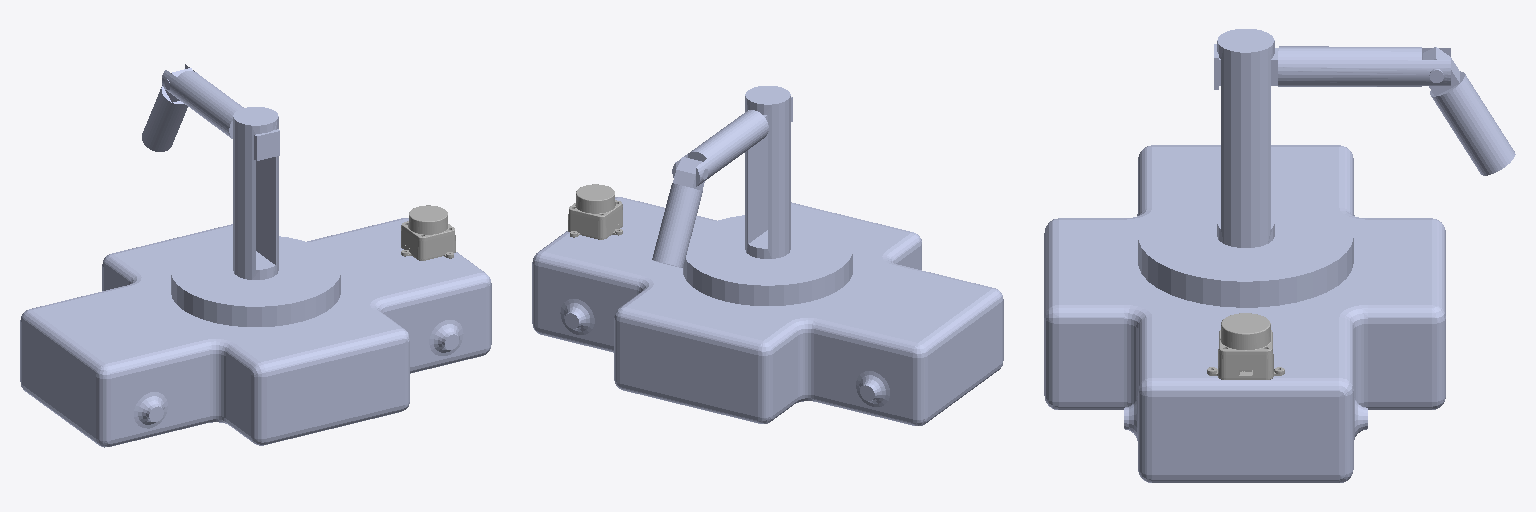
The robot description file, URDF, robot "finalexam_ros":
<?xml version="1.0"?>
<robot
  name="finalexam_ros">
  <link
    name="base_link">
    <inertial>
      <origin
        xyz="4.60613173636493E-05 -5.48293926705412E-06 -0.0455994153912339"
        rpy="0 0 0" />
      <mass
        value="3.07925886782748" />
      <inertia
        ixx="0.0182612787332782"
        ixy="4.38402725811977E-09"
        ixz="7.40473162008238E-07"
        iyy="0.0388954755485699"
        iyz="2.46848881765906E-07"
        izz="0.0521757181959699" />
    </inertial>
    <visual>
      <origin
        xyz="0 0 0"
        rpy="0 0 0" />
      <geometry>
        <mesh
          filename="package://finalexam_ros/meshes/base_link.STL" />
      </geometry>
      <material
        name="">
        <color
          rgba="0.792156862745098 0.819607843137255 0.933333333333333 1" />
      </material>
    </visual>
    <collision>
      <origin
        xyz="0 0 -0.03"
        rpy="0 0 0" />
      <geometry>
        <box size="0.35 0.14 0.10" />
      </geometry>
    </collision>
  </link>

  <link
    name="back_right">
    <inertial>
      <origin
        xyz="-1.67630940679508E-05 0.0187510063255215 -7.16149980251046E-06"
        rpy="0 0 0" />
      <mass
        value="0.144485937463161" />
      <inertia
        ixx="4.00827800129865E-05"
        ixy="4.46642384261894E-11"
        ixz="-2.70611065491029E-10"
        iyy="6.17257618808325E-05"
        iyz="8.90635847424176E-09"
        izz="4.0070713306064E-05" />
    </inertial>
    <visual>
      <origin
        xyz="0 0 0"
        rpy="0 0 0" />
      <geometry>
        <mesh
          filename="package://finalexam_ros/meshes/back_right.STL" />
      </geometry>
      <material
        name="">
        <color
          rgba="0.752941176470588 0.752941176470588 0.752941176470588 1" />
      </material>
    </visual>
    <collision>
      <origin
        xyz="0 0.019 0"
        rpy="1.5708 0 0" />
      <geometry>
        <cylinder radius="0.05" length="0.04" />
      </geometry>
    </collision>
  </link>
  <joint
    name="Backright"
    type="continuous">
    <origin
      xyz="-0.14986476224812 -0.119750309596582 -0.0500082781805382"
      rpy="0 0 0" />
    <parent
      link="base_link" />
    <child
      link="back_right" />
    <axis
      xyz="0 1 0" />
    <limit
      effort="1000"
      velocity="25" />
    <dynamics
      damping="0.1"
      friction="1" />
  </joint>

  <link
    name="back_left">
    <inertial>
      <origin
        xyz="-3.39557239761867E-05 -0.0188726902692292 -8.36398948255157E-05"
        rpy="0 0 0" />
      <mass
        value="0.145187835560938" />
      <inertia
        ixx="4.00896149033657E-05"
        ixy="2.55957160672069E-10"
        ixz="8.70435351802457E-09"
        iyy="6.17369826623331E-05"
        iyz="-3.89988473797599E-11"
        izz="4.0102762059215E-05" />
    </inertial>
    <visual>
      <origin
        xyz="0 0 0"
        rpy="0 0 0" />
      <geometry>
        <mesh
          filename="package://finalexam_ros/meshes/back_left.STL" />
      </geometry>
      <material
        name="">
        <color
          rgba="0.752941176470588 0.752941176470588 0.752941176470588 1" />
      </material>
    </visual>

    <collision>
      <origin
        xyz="0 -0.019 0"
        rpy="1.5708 0 0" />
      <geometry>
        <cylinder radius="0.05" length="0.04" />
      </geometry>
    </collision>
  </link>
  <joint
    name="Backleft"
    type="continuous">
    <origin
      xyz="-0.149911509223914 0.120249690403418 -0.0499105515525619"
      rpy="0 0 0" />
    <parent
      link="base_link" />
    <child
      link="back_left" />
    <axis
      xyz="0 -1 0" />
    <limit
      effort="1000"
      velocity="25" />
    <dynamics
      damping="0.1"
      friction="1" />
  </joint>

  <link
    name="front_left">
    <inertial>
      <origin
        xyz="-6.80328921531421E-05 -0.0167510064700166 8.07998104851437E-06"
        rpy="0 0 0" />
      <mass
        value="0.144485936513102" />
      <inertia
        ixx="4.00815064397821E-05"
        ixy="-3.04651677116548E-09"
        ixz="-3.71818198356295E-09"
        iyy="6.17257625535643E-05"
        iyz="-8.36894560707643E-09"
        izz="4.00719869637442E-05" />
    </inertial>
    <visual>
      <origin
        xyz="0 0 0"
        rpy="0 0 0" />
      <geometry>
        <mesh
          filename="package://finalexam_ros/meshes/front_left.STL" />
      </geometry>
      <material
        name="">
        <color
          rgba="0.752941176470588 0.752941176470588 0.752941176470588 1" />
      </material>
    </visual>

    <collision>
      <origin
        xyz="0 -0.017 0"
        rpy="1.5708 0 0" />
      <geometry>
        <cylinder radius="0.05" length="0.04" />
      </geometry>
    </collision>
  </link>
  <joint
    name="Frontleft"
    type="continuous">
    <origin
      xyz="0.150048677021618 0.118249690403418 -0.0499983612731708"
      rpy="0 0 0" />
    <parent
      link="base_link" />
    <child
      link="front_left" />
    <axis
      xyz="0 -1 0" />
    <limit
      effort="1000"
      velocity="25" />
    <dynamics
      damping="0.1"
      friction="1" />
  </joint>

  <link
    name="front_right">
    <inertial>
      <origin
        xyz="-4.01276467762099E-06 0.0188726903120324 9.0180349112845E-05"
        rpy="0 0 0" />
      <mass
        value="0.145187835558896" />
      <inertia
        ixx="4.00855976097913E-05"
        ixy="-2.54242827598535E-10"
        ixz="-2.60989001776178E-09"
        iyy="6.17369826510031E-05"
        iyz="4.8932975675359E-11"
        izz="4.01067793273605E-05" />
    </inertial>
    <visual>
      <origin
        xyz="0 0 0"
        rpy="0 0 0" />
      <geometry>
        <mesh
          filename="package://finalexam_ros/meshes/front_right.STL" />
      </geometry>
      <material
        name="">
        <color
          rgba="0.752941176470588 0.752941176470588 0.752941176470588 1" />
      </material>
    </visual>

    <collision>
      <origin
        xyz="0 0.019 0"
        rpy="1.5708 0 0" />
      <geometry>
        <cylinder radius="0.05" length="0.04" />
      </geometry>
    </collision>
  </link>
  <joint
    name="Frontright"
    type="continuous">
    <origin
      xyz="0.15005643750699 -0.119750309596582 -0.050096622662408"
      rpy="0 0 0" />
    <parent
      link="base_link" />
    <child
      link="front_right" />
    <axis
      xyz="0 1 0" />
    <limit
      effort="1000"
      velocity="25" />
    <dynamics
      damping="0.1"
      friction="1" />
  </joint>

  <link
    name="fix_arm">
    <inertial>
      <origin
        xyz="5.16407718889056E-05 0.000249690403418157 0.0272580512075361"
        rpy="0 0 0" />
      <mass
        value="0.439295546431636" />
      <inertia
        ixx="0.00124081698488693"
        ixy="4.90491967605696E-08"
        ixz="3.29766832418635E-19"
        iyy="0.00124982311483853"
        iyz="2.3715938386396E-19"
        izz="0.00101616739612817" />
    </inertial>
    <visual>
      <origin
        xyz="0 0 0"
        rpy="0 0 0" />
      <geometry>
        <mesh
          filename="package://finalexam_ros/meshes/fix_arm.STL" />
      </geometry>
      <material
        name="">
        <color
          rgba="0.792156862745098 0.819607843137255 0.933333333333333 1" />
      </material>
    </visual>

    <collision>
      <origin
        xyz="0 0 0.027"
        rpy="0 0 0" />
      <geometry>
        <cylinder radius="0.04" length="0.06" />
      </geometry>
    </collision>
  </link>
  <joint
    name="Fixarm"
    type="fixed">
    <origin
      xyz="0 0 0"
      rpy="0 0 0" />
    <parent
      link="base_link" />
    <child
      link="fix_arm" />
    <axis
      xyz="0 0 0" />
  </joint>

  <link
    name="joint_1">
    <inertial>
      <origin
        xyz="0.000304670881587754 0.0559437297110564 0.129999996094583"
        rpy="0 0 0" />
      <mass
        value="0.0848039939096306" />
      <inertia
        ixx="0.000142384120242274"
        ixy="-7.3199738064874E-07"
        ixz="-5.98501563417493E-13"
        iyy="7.97751875557315E-06"
        iyz="1.85113127209417E-11"
        izz="0.000142569533457675" />
    </inertial>
    <visual>
      <origin
        xyz="0 0 0"
        rpy="0 0 0" />
      <geometry>
        <mesh
          filename="package://finalexam_ros/meshes/joint_1.STL" />
      </geometry>
      <material
        name="">
        <color
          rgba="0.792156862745098 0.819607843137255 0.933333333333333 1" />
      </material>
    </visual>

    <collision>
      <origin
        xyz="0 0 0.13"
        rpy="0 0 0" />
      <geometry>
        <cylinder radius="0.02" length="0.15" />
      </geometry>
    </collision>
  </link>
  <joint
    name="Joint1"
    type="prismatic">
    <origin
      xyz="5.16407718889056E-05 0.000249690403418268 0.02"
      rpy="0 0 0" />
    <parent
      link="fix_arm" />
    <child
      link="joint_1" />
    <axis
      xyz="0 0 1" />

    <limit
      lower="-0.11"
      upper="0"
      effort="50"
      velocity="0.5" />
    <dynamics
      damping="0.1"
      friction="10" />
  </joint>

  <link
    name="joint2">
    <inertial>
      <origin
        xyz="0.0387153387889752 0.0154767804769137 -3.78737557859832E-05"
        rpy="0 0 0" />
      <mass
        value="0.0535021473177969" />
      <inertia
        ixx="9.01147443106383E-06"
        ixy="-9.88211726822178E-06"
        ixz="1.54054117281876E-20"
        iyy="2.97812418465219E-05"
        iyz="6.41892155341149E-21"
        izz="3.35652509632372E-05" />
    </inertial>
    <visual>
      <origin
        xyz="0 0 0"
        rpy="0 0 0" />
      <geometry>
        <mesh
          filename="package://finalexam_ros/meshes/joint2.STL" />
      </geometry>
      <material
        name="">
        <color
          rgba="0.792156862745098 0.819607843137255 0.933333333333333 1" />
      </material>
    </visual>

    <collision>
      <origin
        xyz="0.039 0.015 0"
        rpy="0 1.5708 0" />
      <geometry>
        <cylinder radius="0.015" length="0.09" />
      </geometry>
    </collision>
  </link>
  <joint
    name="Joint2"
    type="revolute">
    <origin
      xyz="0.00072256707584864 0.132677524374381 0.130000000000001"
      rpy="-1.57079632679489 0.666899498761747 1.56535034085449" />
    <parent
      link="joint_1" />
    <child
      link="joint2" />
    <axis
      xyz="0 0 -1" />

    <limit
      lower="0"
      upper="2.0933"
      effort="50"
      velocity="1.0" />
  </joint>

  <link
    name="end_effector">
    <inertial>
      <origin
        xyz="0.00133295803156219 0.00136909483014924 -0.000418545179635688"
        rpy="0 0 0" />
      <mass
        value="0.0515155952474648" />
      <inertia
        ixx="1.56449483279695E-05"
        ixy="1.08955306970201E-06"
        ixz="2.23401870692048E-07"
        iyy="1.04579327240331E-05"
        iyz="3.65061446789954E-06"
        izz="1.37527997339835E-05" />
    </inertial>
    <visual>
      <origin
        xyz="0 0 0"
        rpy="0 0 0" />
      <geometry>
        <mesh
          filename="package://finalexam_ros/meshes/end_effector.STL" />
      </geometry>
      <material
        name="">
        <color
          rgba="0.796078431372549 0.823529411764706 0.937254901960784 1" />
      </material>
    </visual>

    <collision>
      <origin
        xyz="0.001 0.001 0"
        rpy="0 0 0" />
      <geometry>
        <sphere radius="0.03" />
      </geometry>
    </collision>
  </link>
  <joint
    name="EE"
    type="fixed">
    <origin
      xyz="0.126708892956664 0.050652944727702 0"
      rpy="0 -1.56535034085447 2.47469315482736" />
    <parent
      link="joint2" />
    <child
      link="end_effector" />
    <axis
      xyz="0 0 0" />
    <dynamics
      damping="0.1"
      friction="10" />
  </joint>

  <link
    name="lidar">
    <inertial>
      <origin
        xyz="0.000649834734422927 -0.000432499745949111 0.0114242539296638"
        rpy="0 0 0" />
      <mass
        value="0.0120321695084395" />
      <inertia
        ixx="2.21429956225363E-06"
        ixy="-3.38754138037177E-08"
        ixz="-4.84627957222887E-09"
        iyy="2.13896956961368E-06"
        iyz="-4.18985401957555E-09"
        izz="3.87805432538668E-06" />
    </inertial>
    <visual>
      <origin
        xyz="0 0 0"
        rpy="0 0 0" />
      <geometry>
        <mesh
          filename="package://finalexam_ros/meshes/lidar.STL" />
      </geometry>
      <material
        name="">
        <color
          rgba="0.752941176470588 0.752941176470588 0.752941176470588 1" />
      </material>
    </visual>

    <collision>
      <origin
        xyz="0 0 0.011"
        rpy="0 0 0" />
      <geometry>
        <cylinder radius="0.025" length="0.025" />
      </geometry>
    </collision>
  </link>
  <joint
    name="Lidar"
    type="fixed">
    <origin
      xyz="0.174303696818418 0.000603620603913058 0.00"
      rpy="0 0 0" />
    <parent
      link="base_link" />
    <child
      link="lidar" />
    <axis
      xyz="0 0 0" />
  </joint>

<link name="lidar_frame">
  <inertial>
    <mass value="0.001"/>
    <inertia ixx="0.00001" iyy="0.00001" izz="0.00001"
             ixy="0" ixz="0" iyz="0"/>
  </inertial>
</link>


<joint name="lidar_to_frame" type="fixed">
  <parent link="lidar"/>
  <child link="lidar_frame"/>
  <origin xyz="0 0 0.03" rpy="0 0 0"/>  
</joint>

  <link
    name="imu">
    <inertial>
      <origin
        xyz="2.77555756156289E-17 0 -0.00148613416775453"
        rpy="0 0 0" />
      <mass
        value="0.00181256637061436" />
      <inertia
        ixx="6.14135305642494E-08"
        ixy="-3.47123277975075E-23"
        ixz="-3.39167614982162E-25"
        iyy="1.36413530564249E-07"
        iyz="3.46710163602183E-25"
        izz="1.95025132741229E-07" />
    </inertial>
    <visual>
      <origin
        xyz="0 0 0"
        rpy="0 0 0" />
      <geometry>
        <mesh
          filename="package://finalexam_ros/meshes/imu.STL" />
      </geometry>
      <material
        name="">
        <color
          rgba="1 0.0313725490196078 0.0313725490196078 1" />
      </material>
    </visual>

    <collision>
      <origin
        xyz="0 0 -0.0015"
        rpy="0 0 0" />
      <geometry>
        <box size="0.02 0.01 0.003" />
      </geometry>
    </collision>
  </link>
  <joint
    name="IMU"
    type="fixed">
    <origin
      xyz="5.16407718888501E-05 -0.00020835506176925 -0.08"
      rpy="0 0 0" />
    <parent
      link="base_link" />
    <child
      link="imu" />
    <axis
      xyz="0 0 0" />
  </joint>

  <!-- end -->
  <gazebo reference="lidar_frame">
  <sensor name="lidar" type="ray">
    <pose>0 0 0 0 0 0</pose>
    <always_on>true</always_on>
    <update_rate>10</update_rate>
    <visualize>true</visualize>
    <ray>
      <scan>
        <horizontal>
          <samples>180</samples>
          <resolution>1</resolution>
          <min_angle>-2.0933</min_angle>
          <max_angle>2.0933</max_angle>
        </horizontal>
      </scan>
      <range>
        <min>0.1</min>
        <max>10.0</max>
        <resolution>0.01</resolution>
      </range>
      <noise>
        <type>gaussian</type>
        <mean>0.0</mean>
        <stddev>0.01</stddev>
      </noise>
    </ray>
    <plugin name="gazebo_ros_ray_sensor" filename="libgazebo_ros_ray_sensor.so">
      <ros>
        <remapping>~/out:=scan</remapping>
      </ros>
      <output_type>sensor_msgs/LaserScan</output_type>
      <frame_name>lidar_frame</frame_name>
    </plugin>
  </sensor>
</gazebo>

  <gazebo reference="back_right">
    <mu1>0.01</mu1><mu2>0.01</mu2>
    <kp>1000000.0</kp><kd>1.0</kd>
  </gazebo>
  <gazebo reference="back_left">
    <mu1>0.01</mu1><mu2>0.01</mu2>
    <kp>1000000.0</kp><kd>1.0</kd>
  </gazebo>
  <gazebo reference="front_left">
    <mu1>0.01</mu1><mu2>0.01</mu2>
    <kp>1000000.0</kp><kd>1.0</kd>
  </gazebo>
  <gazebo reference="front_right">
    <mu1>0.01</mu1><mu2>0.01</mu2>
    <kp>1000000.0</kp><kd>1.0</kd>
  </gazebo>

  <ros2_control name="GazeboSystem" type="system">
    <hardware>
      <plugin>gazebo_ros2_control/GazeboSystem</plugin>
    </hardware>
    <joint name="Backright">
      <command_interface name="velocity">
        <param name="min">-25</param>
        <param name="max">25</param>
      </command_interface>
      <state_interface name="position"/>
      <state_interface name="velocity"/>
    </joint>
    <joint name="Backleft">
      <command_interface name="velocity">
        <param name="min">-25</param>
        <param name="max">25</param>
      </command_interface>
      <state_interface name="position"/>
      <state_interface name="velocity"/>
    </joint>
    <joint name="Frontleft">
      <command_interface name="velocity">
        <param name="min">-25</param>
        <param name="max">25</param>
      </command_interface>
      <state_interface name="position"/>
      <state_interface name="velocity"/>
    </joint>
    <joint name="Frontright">
      <command_interface name="velocity">
        <param name="min">-25</param>
        <param name="max">25</param>
      </command_interface>
      <state_interface name="position"/>
      <state_interface name="velocity"/>
    </joint>
  </ros2_control>


<gazebo>
    <plugin name="gazebo_ros2_control" filename="libgazebo_ros2_control.so">
        <parameters>/home/ductri/ros2_ws/src/finalexam_ros/config/controllers.yaml</parameters>
    </plugin>
</gazebo>


<gazebo reference="imu">
  <sensor name="imu_sensor" type="imu">
    <always_on>true</always_on>
    <update_rate>100</update_rate>
    <visualize>true</visualize>
    <plugin name="gazebo_ros_imu" filename="libgazebo_ros_imu_sensor.so">
      <ros>
        <remapping>~/out:=imu</remapping>
      </ros>
      <initial_orientation_as_reference>false</initial_orientation_as_reference>
      <frame_name>imu</frame_name>
    </plugin>
    <imu>
      <angular_velocity>
        <x><noise type="gaussian"><mean>0</mean><stddev>0.01</stddev></noise></x>
        <y><noise type="gaussian"><mean>0</mean><stddev>0.01</stddev></noise></y>
        <z><noise type="gaussian"><mean>0</mean><stddev>0.01</stddev></noise></z>
      </angular_velocity>
      <linear_acceleration>
        <x><noise type="gaussian"><mean>0</mean><stddev>0.1</stddev></noise></x>
        <y><noise type="gaussian"><mean>0</mean><stddev>0.1</stddev></noise></y>
        <z><noise type="gaussian"><mean>0</mean><stddev>0.1</stddev></noise></z>
      </linear_acceleration>
    </imu>
  </sensor>
</gazebo>


</robot>

--- Render facts (derived) ---
3 views of the same robot in one strip: view 1: azimuth 30°, elevation 25°; view 2: azimuth 150°, elevation 25°; view 3: azimuth 270°, elevation 25° (orthographic).
Model finalexam_ros with 12 links and 11 joints (1 revolute, 4 continuous, 1 prismatic, 5 fixed), rooted at base_link, posed all joints at 0.
Links seen in each view (by area): view 1: base_link, fix_arm, joint_1, lidar, joint2; view 2: base_link, fix_arm, joint2, joint_1, lidar; view 3: base_link, fix_arm, joint_1, joint2, lidar.
Boxes of the visible links, bbox=[...] form: base_link: bbox=[20, 218, 491, 447]; fix_arm: bbox=[171, 107, 340, 326]; joint_1: bbox=[162, 64, 279, 160]; lidar: bbox=[401, 205, 455, 260]; joint2: bbox=[142, 68, 196, 151]; base_link: bbox=[532, 197, 1003, 425]; fix_arm: bbox=[683, 86, 852, 305]; joint2: bbox=[652, 157, 708, 267]; joint_1: bbox=[672, 97, 792, 186]; lidar: bbox=[568, 184, 622, 239]; base_link: bbox=[1044, 145, 1445, 482]; fix_arm: bbox=[1138, 29, 1353, 307]; joint_1: bbox=[1214, 44, 1450, 89]; joint2: bbox=[1423, 47, 1515, 175]; lidar: bbox=[1207, 313, 1284, 379].
Size in the robot's own frame: 0.4 by 0.3274 by 0.253 metres.
Meshes: 11 distinct files referenced, 6 mesh visuals loaded (6 binary STL); not drawn: 5 (reference not matched to a file when rendering).
